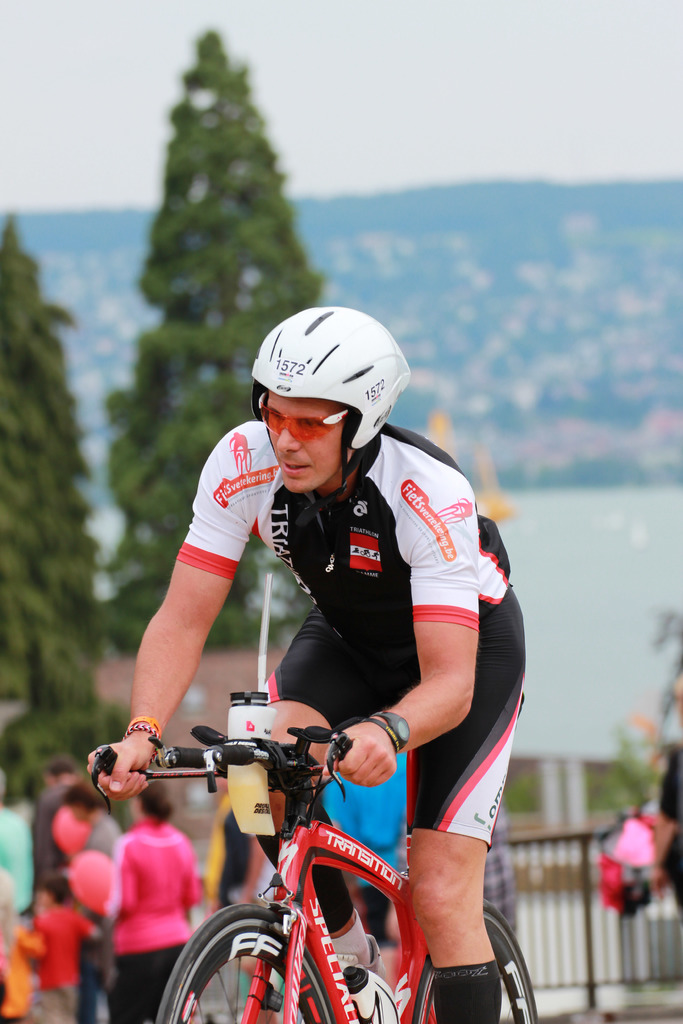Bike_toward: (88, 722, 575, 1019)
